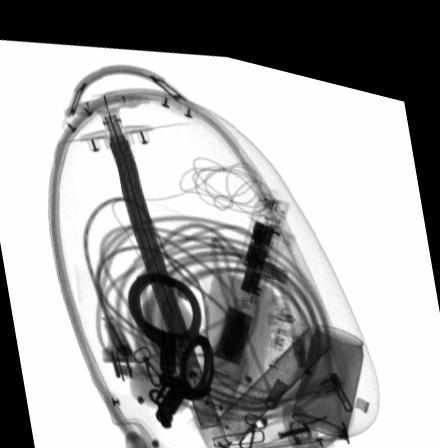Baton: (194, 206, 283, 397)
HandCuffs: (124, 264, 215, 420)
